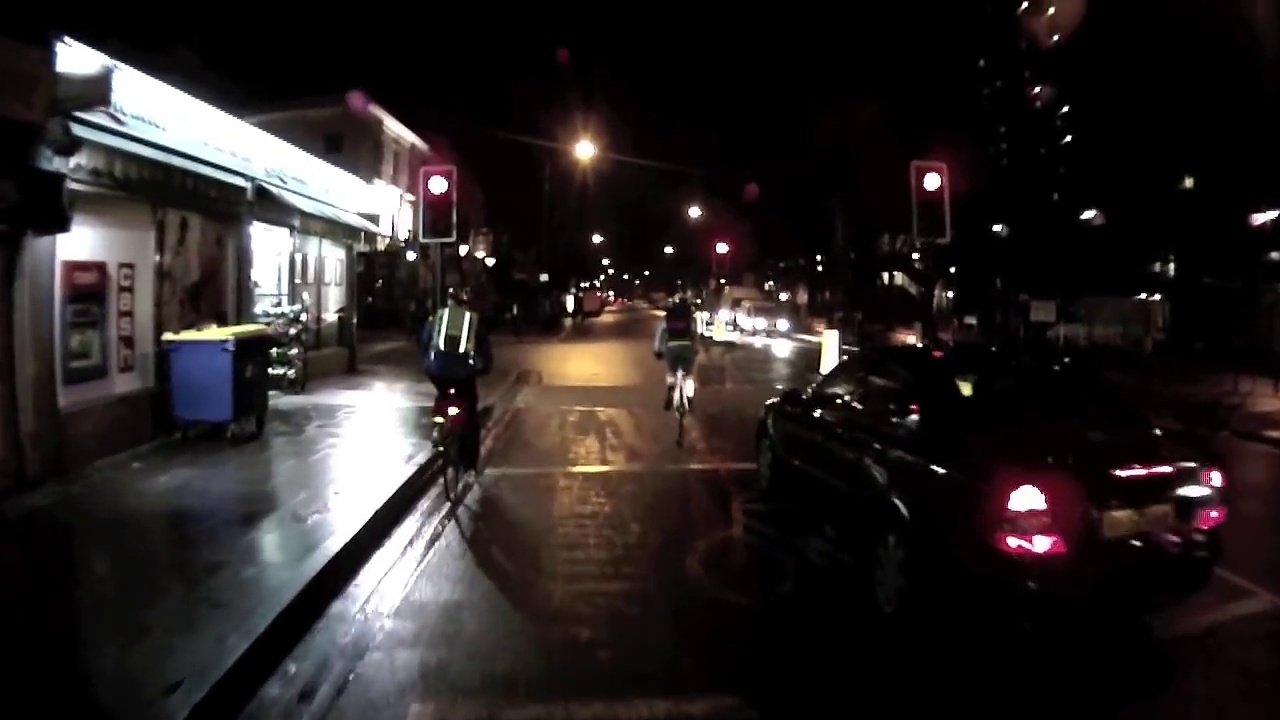cyclist_back: (423, 286, 492, 502), (653, 287, 702, 448)
